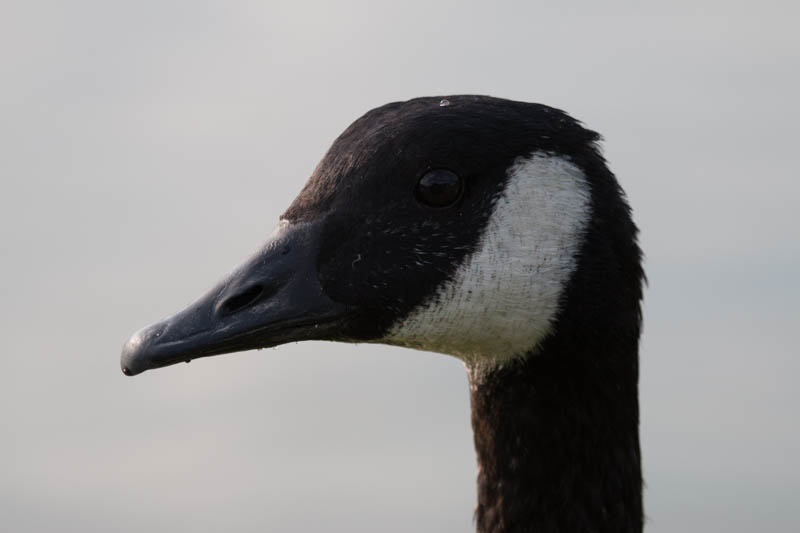goose-head: (119, 98, 640, 385)
